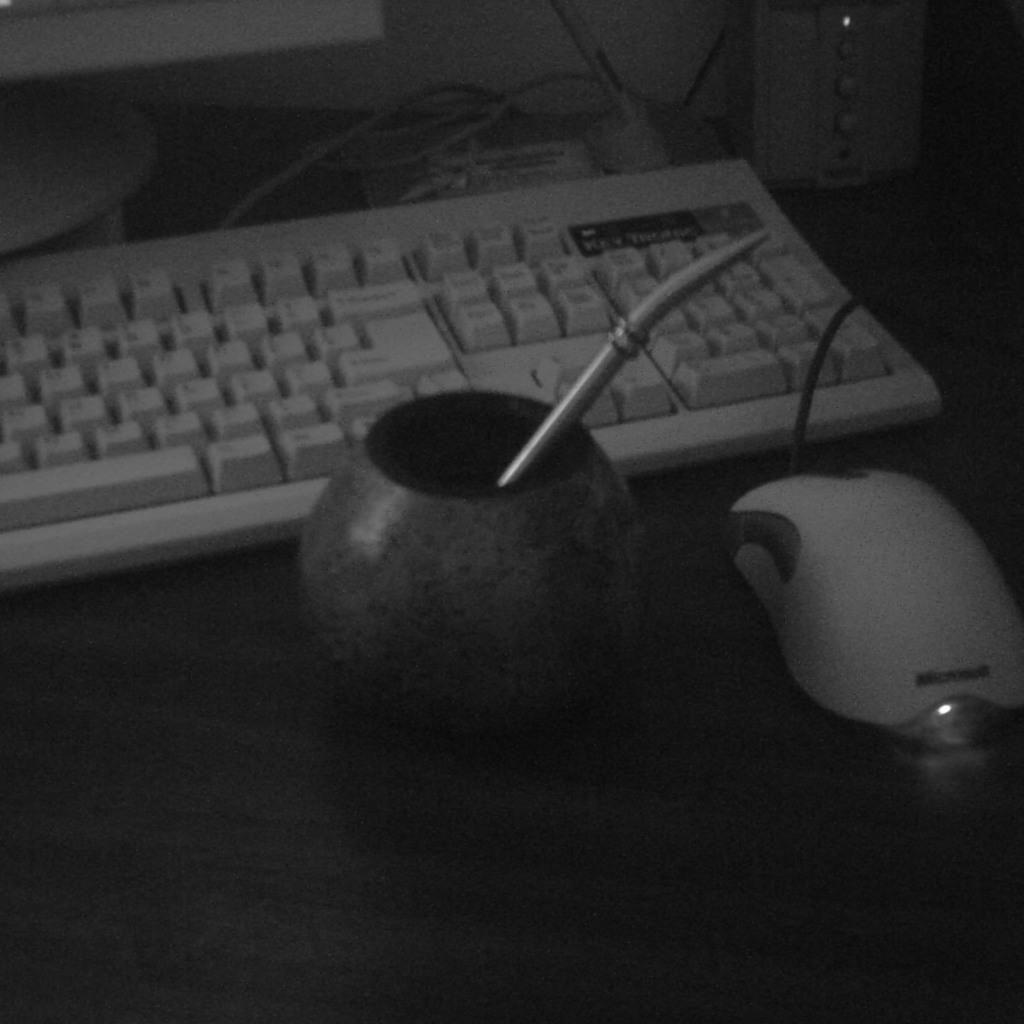Computer-mouse: (721, 471, 1022, 748)
